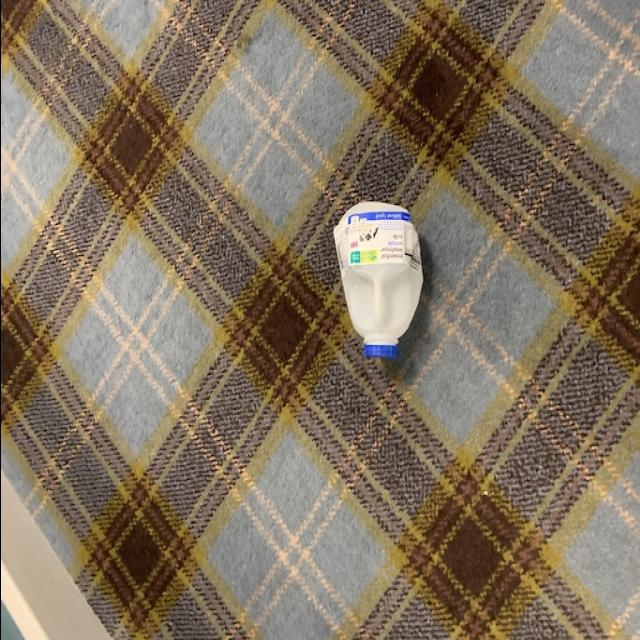litter: (328, 195, 422, 363)
